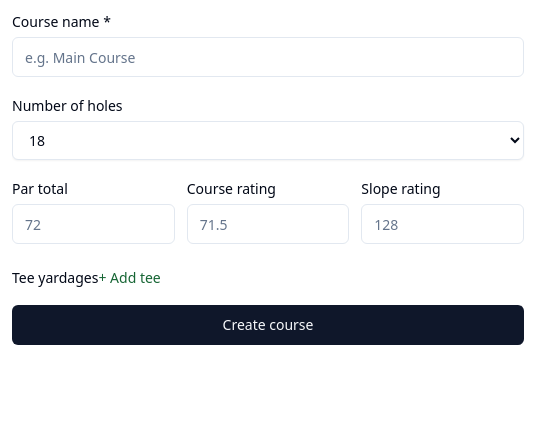
Test case: CourseForm — create mode › starts with one tee row after clicking + Add tee
Click the button "+ Add tee": [130, 278] box [98,268,161,288]
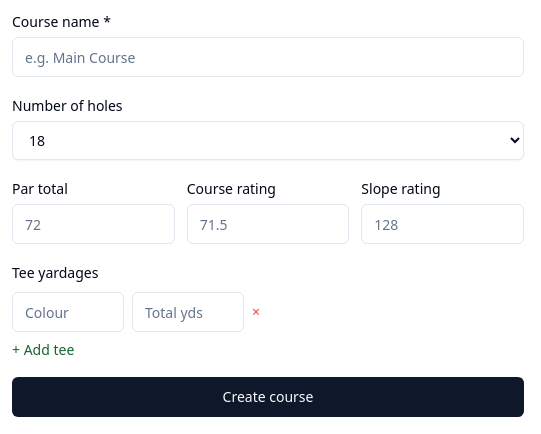
Check: the number of fields with placeholder "Colour" is 1, box [12,292,124,332]
